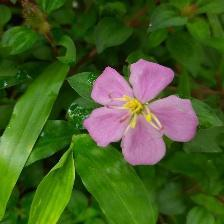malabar melastome: (82, 58, 202, 168)
